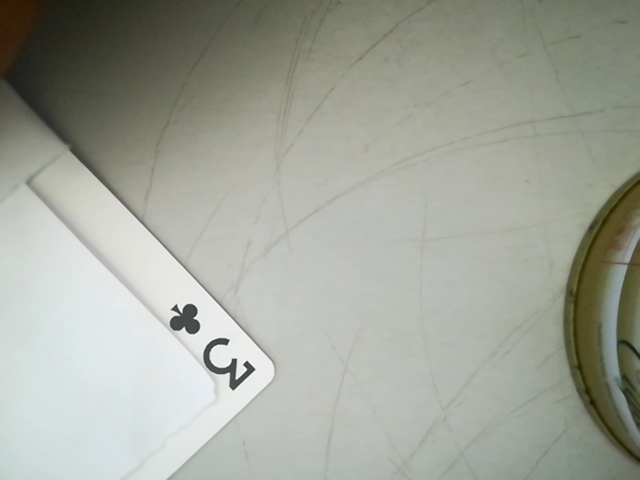mh 3: (155, 289, 256, 400)
